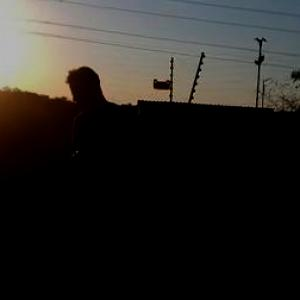follow: (61, 62, 150, 299)
